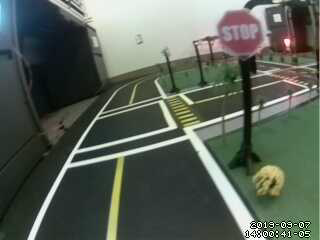Stop_Sign: (211, 8, 267, 61)
